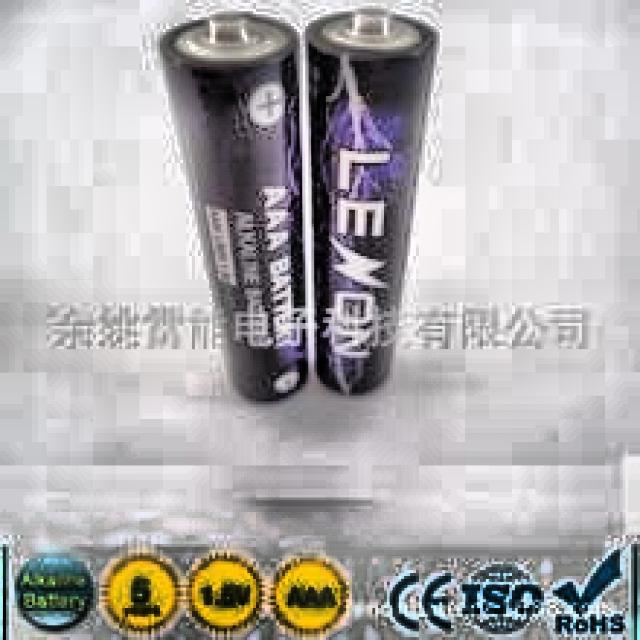Non-Valuable Waste - Batteries: (160, 15, 308, 401), (306, 9, 438, 394)
